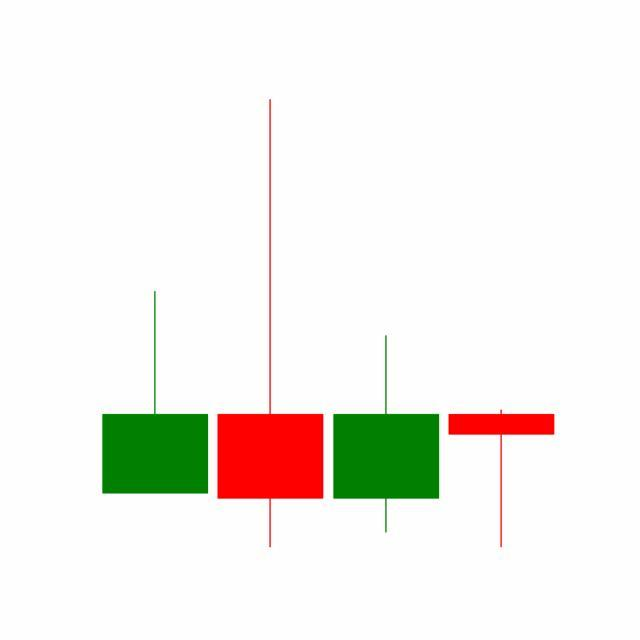Dragonfly Doji: (444, 408, 560, 550)
